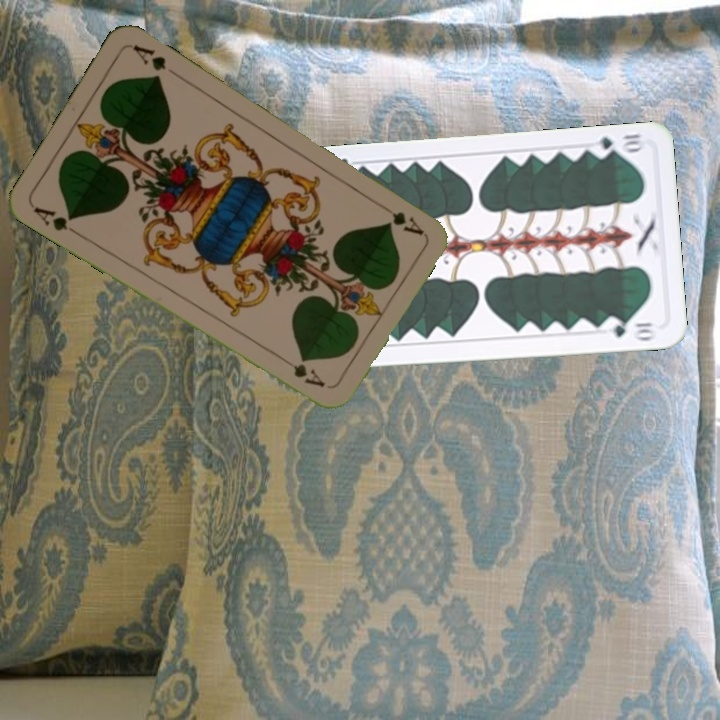G10: (589, 129, 647, 160)
GA: (374, 198, 426, 238), (29, 203, 83, 239)
